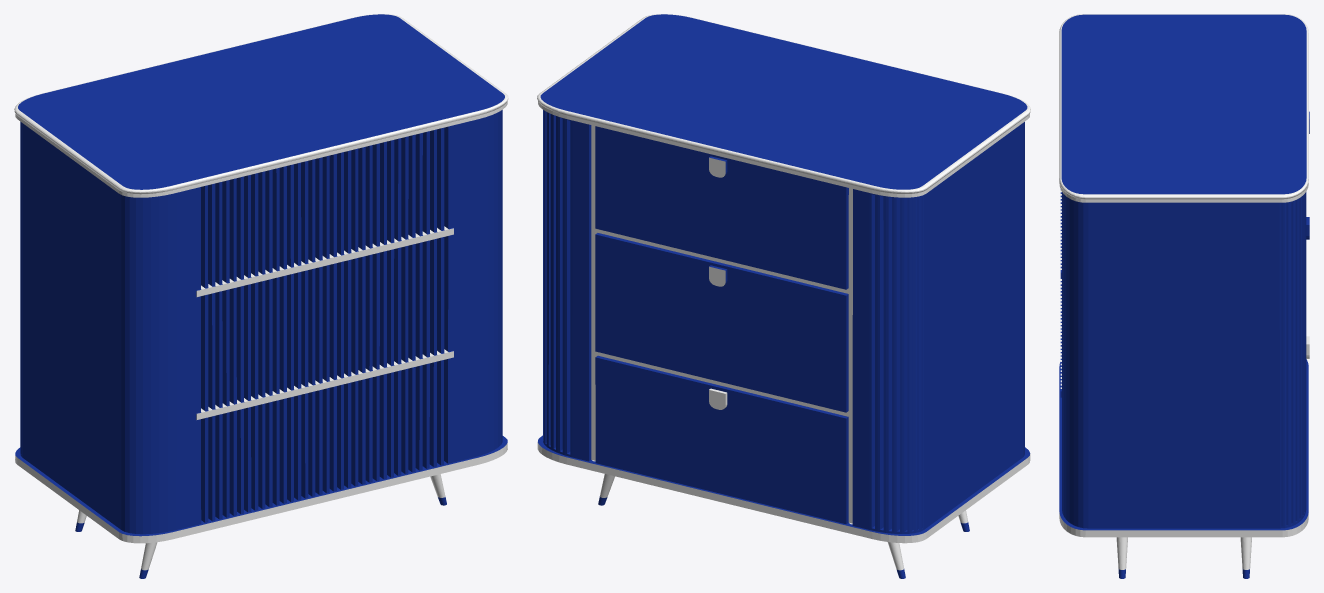
Rendered from blue_table.fbx.
3 views of the same model, side by side, from view 1: azimuth 30°, elevation 25°; view 2: azimuth 150°, elevation 25°; view 3: azimuth 270°, elevation 25° (orthographic). The views are drawn at different scales.
Visible parts, largest first — view 1: Cube; view 2: Cube; view 3: Cube.
Boxes of the visible parts, x1=… form: Cube: x1=14, y1=14, x2=508, y2=578; Cube: x1=537, y1=14, x2=1030, y2=578; Cube: x1=1059, y1=14, x2=1309, y2=578.
Size of the model in its own units: 78.16 by 80.06 by 45.23.
